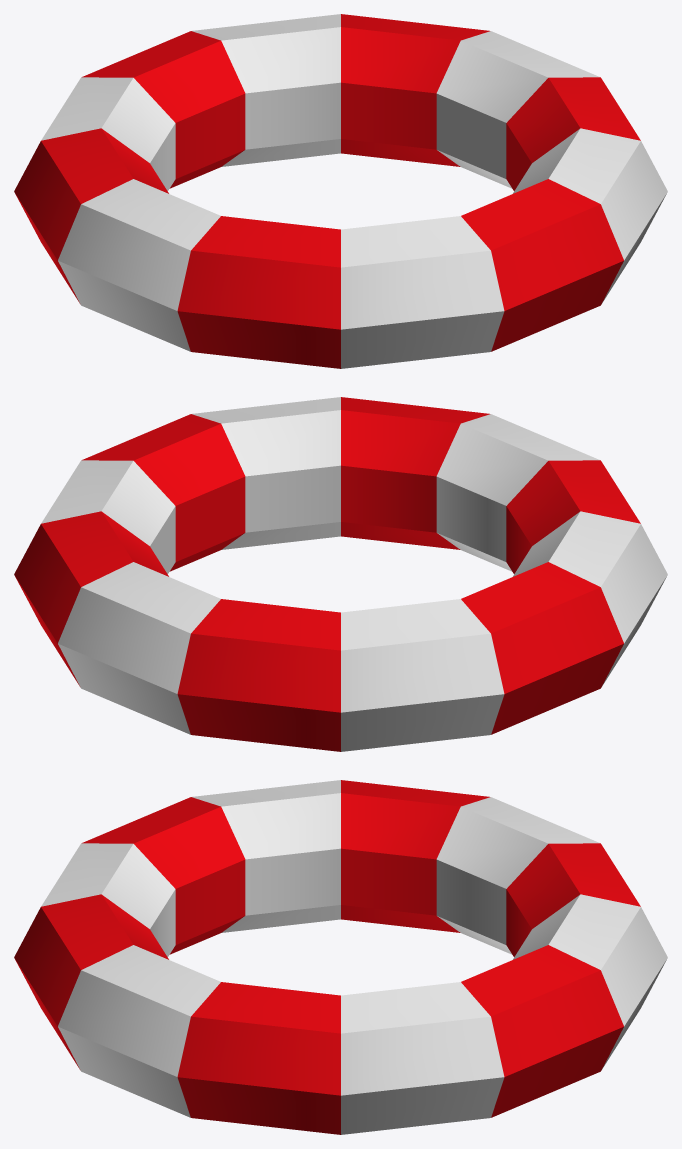
The model's file is Floaty.fbx.
3 views of the same model, one above another, from view 1: azimuth 30°, elevation 25°; view 2: azimuth 150°, elevation 25°; view 3: azimuth 270°, elevation 25° (orthographic).
Visible parts, largest first — view 1: Floaty; view 2: Floaty; view 3: Floaty.
Part boxes in pixels (box(x1,y1,x2,y2)): Floaty: box(14, 14, 667, 368); Floaty: box(14, 397, 667, 751); Floaty: box(14, 780, 667, 1134).
Size of the model in its own units: 256 by 54.6 by 256.
